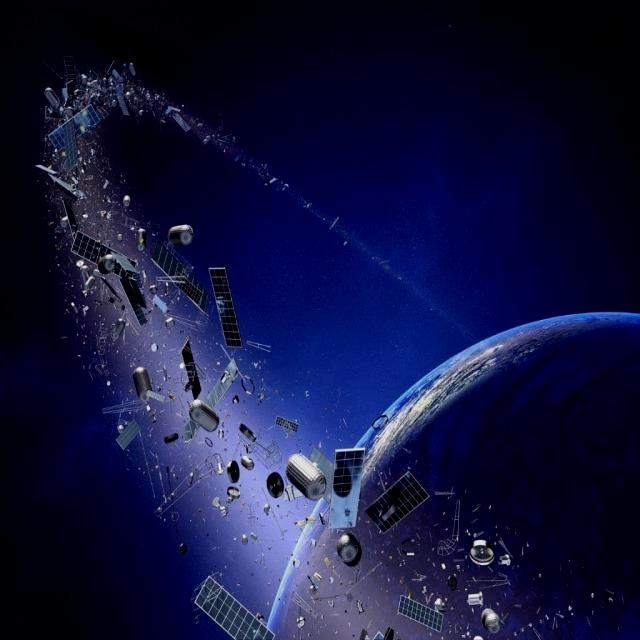large_debris: (181, 342, 249, 448), (192, 571, 279, 640), (152, 450, 226, 520), (149, 235, 210, 314), (363, 469, 431, 537), (47, 100, 101, 174), (326, 445, 367, 533), (207, 261, 245, 349), (69, 230, 139, 274), (395, 591, 445, 634), (285, 451, 327, 502), (34, 162, 82, 200), (118, 271, 147, 329), (179, 338, 203, 404), (183, 397, 221, 433), (335, 531, 365, 568), (132, 364, 154, 414), (160, 102, 191, 136), (114, 418, 142, 452), (62, 50, 82, 97), (468, 536, 497, 568), (289, 588, 318, 620), (166, 222, 196, 250), (75, 259, 95, 300), (480, 602, 504, 634), (61, 195, 77, 243), (107, 316, 131, 346), (43, 84, 63, 116), (306, 572, 321, 614), (273, 413, 301, 435), (266, 470, 284, 498), (221, 486, 243, 508), (226, 457, 242, 485), (466, 588, 484, 610), (135, 225, 147, 252), (163, 428, 179, 446), (239, 452, 255, 470), (445, 572, 458, 592), (175, 541, 189, 557), (163, 316, 177, 330), (291, 556, 301, 570), (122, 194, 131, 208), (149, 341, 159, 353)
